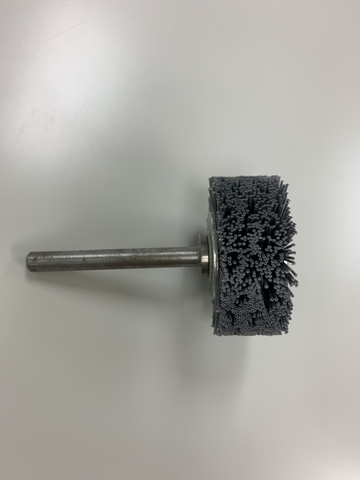Wheel Brush: (30, 172, 300, 343), (55, 168, 292, 345)
